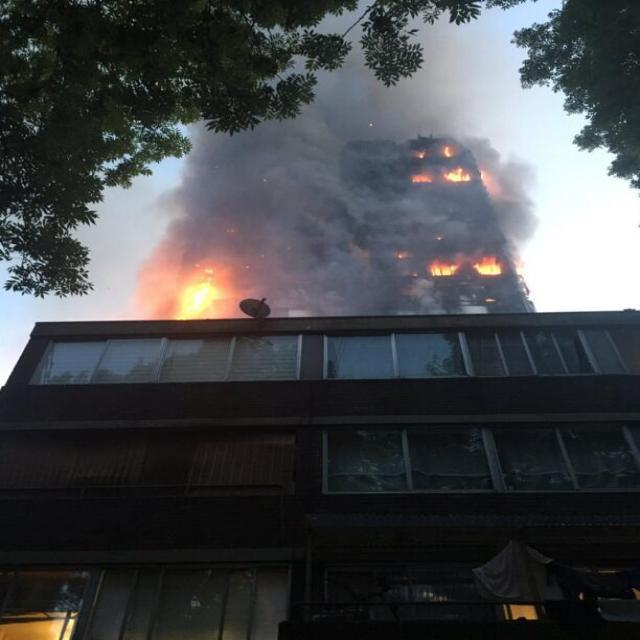Fire: (165, 270, 235, 320)
Smoke: (164, 86, 350, 250), (468, 133, 544, 247)
